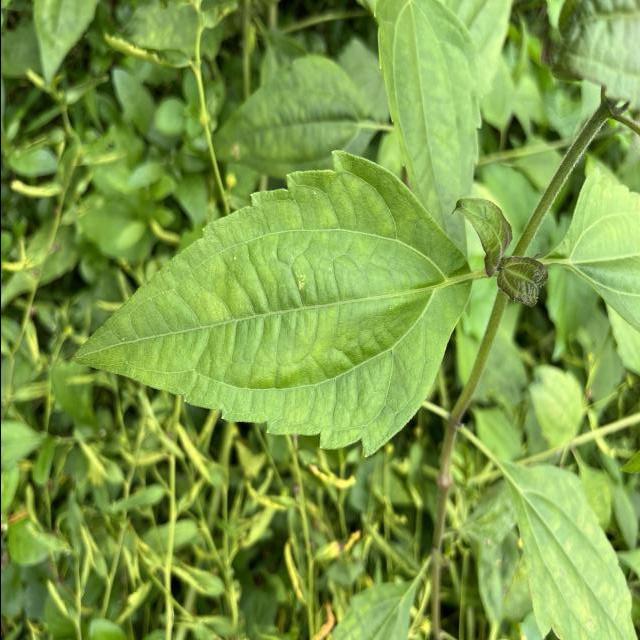Chromolaena odorata: (62, 144, 476, 464)
